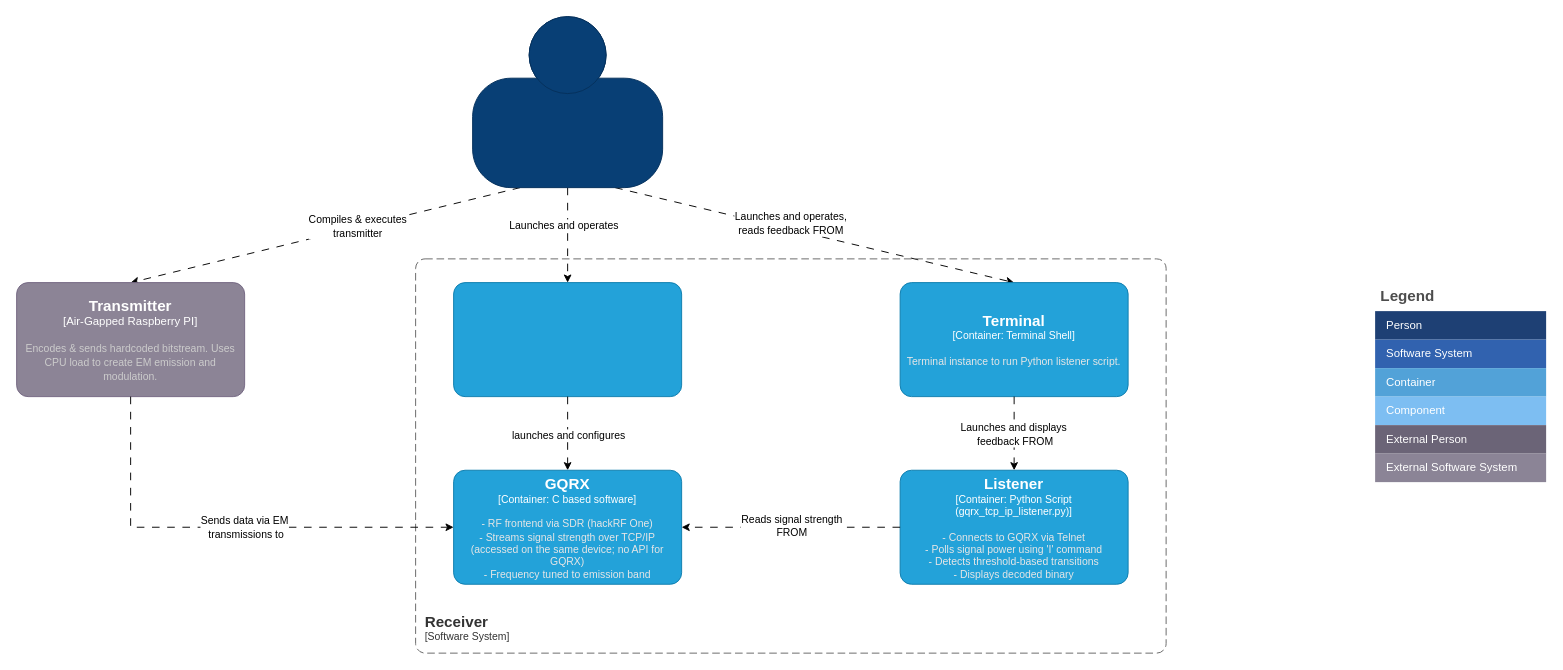
This 1563x670 diagram has some shape labels left out. Each missing label, with the centre of its shape:
"Malicious actor [Person] Adversary" belongs at point 567,102.
"Terminal [Container: Terminal Shell] Terminal instance to run GQRX." belongs at point 567,339.
